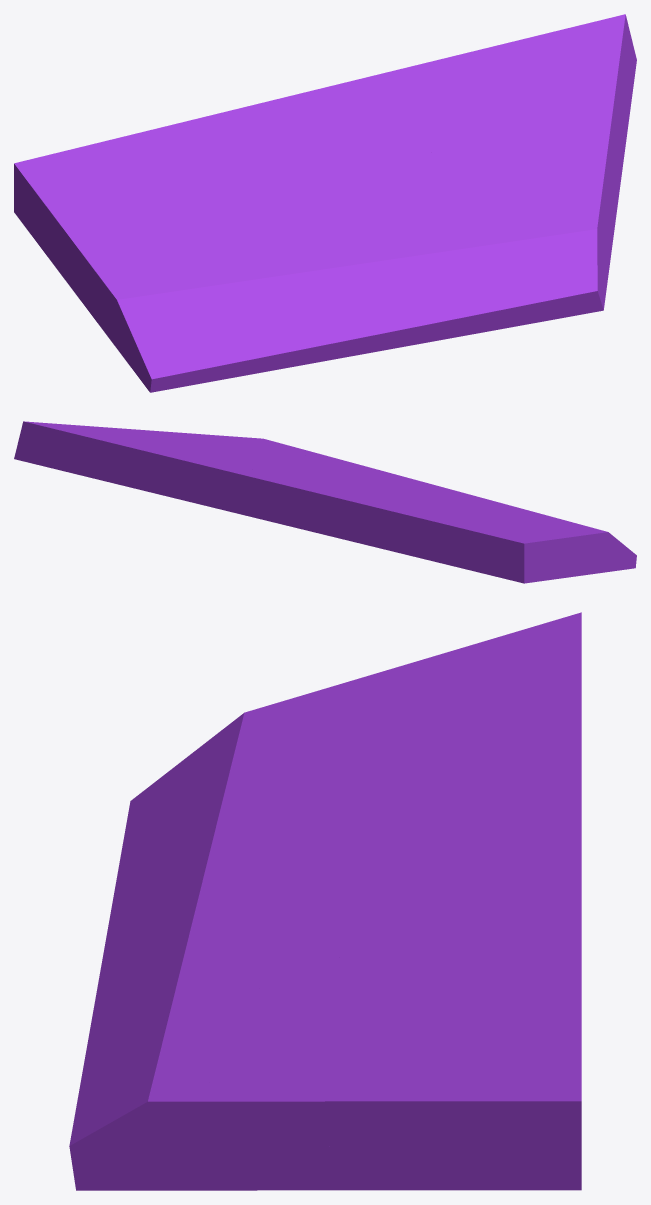
File: Window_147_1_chunks.fbx
3 views of the same model, one above another, from view 1: azimuth 30°, elevation 25°; view 2: azimuth 150°, elevation 25°; view 3: azimuth 270°, elevation 25° (orthographic). The views are drawn at different scales.
Visible parts, largest first — view 1: Window_147_1_13, Window_147_1_10, Window_147_1_8, Window_147_1_1, Window_147_1_12, Window_147_1_2, Window_147_1_9, Window_147_1_0, Window_147_1_11, Window_147_1_21, Window_147_1_18, Window_147_1_19 (+4 smaller); view 2: Window_147_1_13, Window_147_1_19, Window_147_1_8, Window_147_1_21, Window_147_1_11, Window_147_1_10, Window_147_1_9, Window_147_1_17, Window_147_1_18, Window_147_1_12, Window_147_1_2, Window_147_1_1 (+2 smaller); view 3: Window_147_1_13, Window_147_1_17, Window_147_1_8, Window_147_1_1, Window_147_1_9, Window_147_1_21, Window_147_1_11, Window_147_1_12, Window_147_1_2, Window_147_1_10, Window_147_1_18, Window_147_1_19 (+4 smaller).
Part boxes in pixels (x1,y1,x2,y2): Window_147_1_13: (14, 126, 255, 272); Window_147_1_10: (34, 238, 244, 392); Window_147_1_8: (220, 94, 436, 211); Window_147_1_1: (479, 203, 611, 329); Window_147_1_12: (213, 219, 343, 375); Window_147_1_2: (317, 214, 485, 294); Window_147_1_9: (421, 139, 610, 241); Window_147_1_0: (305, 290, 499, 363); Window_147_1_11: (168, 113, 346, 228); Window_147_1_21: (491, 14, 631, 120); Window_147_1_18: (354, 90, 545, 154); Window_147_1_19: (299, 46, 495, 117); Window_147_1_13: (398, 502, 583, 583); Window_147_1_19: (128, 447, 290, 517); Window_147_1_8: (255, 464, 386, 540); Window_147_1_21: (18, 421, 179, 480); Window_147_1_11: (348, 484, 455, 562); Window_147_1_10: (526, 512, 636, 581); Window_147_1_9: (187, 433, 341, 470); Window_147_1_17: (14, 425, 200, 475); Window_147_1_18: (179, 442, 284, 477); Window_147_1_12: (397, 485, 538, 513); Window_147_1_2: (335, 460, 459, 491); Window_147_1_1: (236, 436, 342, 460); Window_147_1_13: (252, 612, 581, 819); Window_147_1_17: (291, 1040, 581, 1190); Window_147_1_8: (278, 777, 581, 960); Window_147_1_1: (69, 1008, 234, 1190); Window_147_1_9: (199, 954, 384, 1177); Window_147_1_21: (399, 997, 581, 1145); Window_147_1_11: (298, 735, 581, 892); Window_147_1_12: (109, 789, 321, 919); Window_147_1_2: (116, 879, 305, 1036); Window_147_1_10: (119, 684, 339, 864); Window_147_1_18: (373, 888, 502, 1047); Window_147_1_19: (490, 840, 581, 998).
Bounding box in the file's own units: 1339 × 289 × 582.
